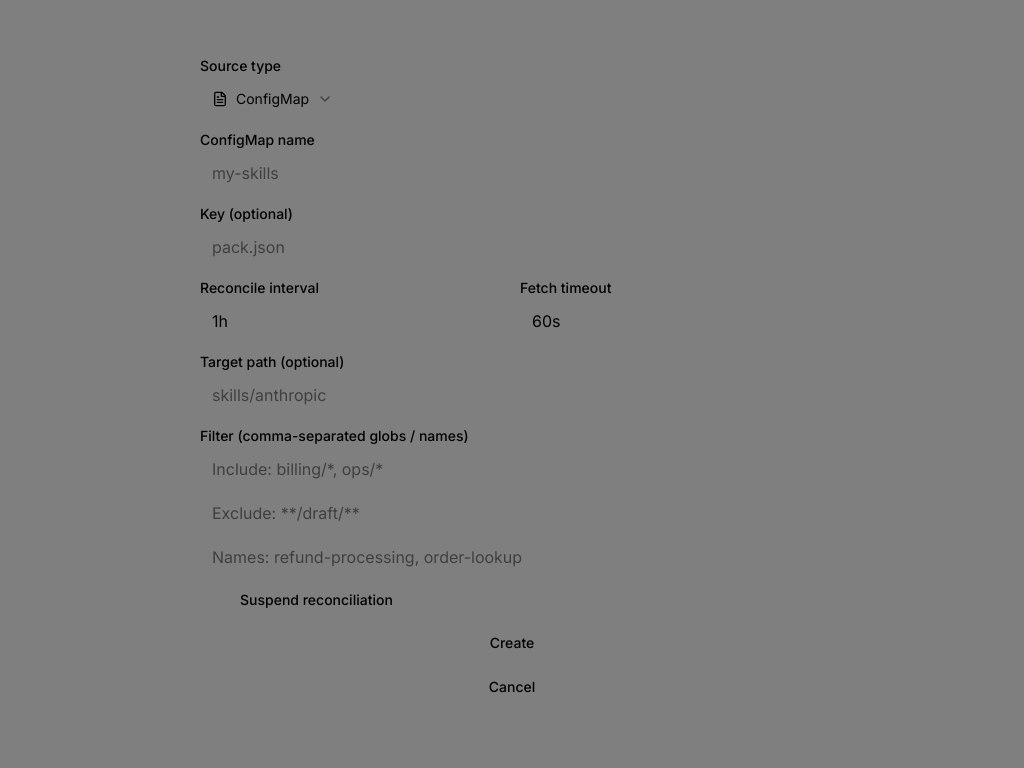
Test: SkillSourceDialog › rejects empty name on submit
(page scrolled)
Click the button "Create". click: (512, 644)
box: [200,626,824,662]
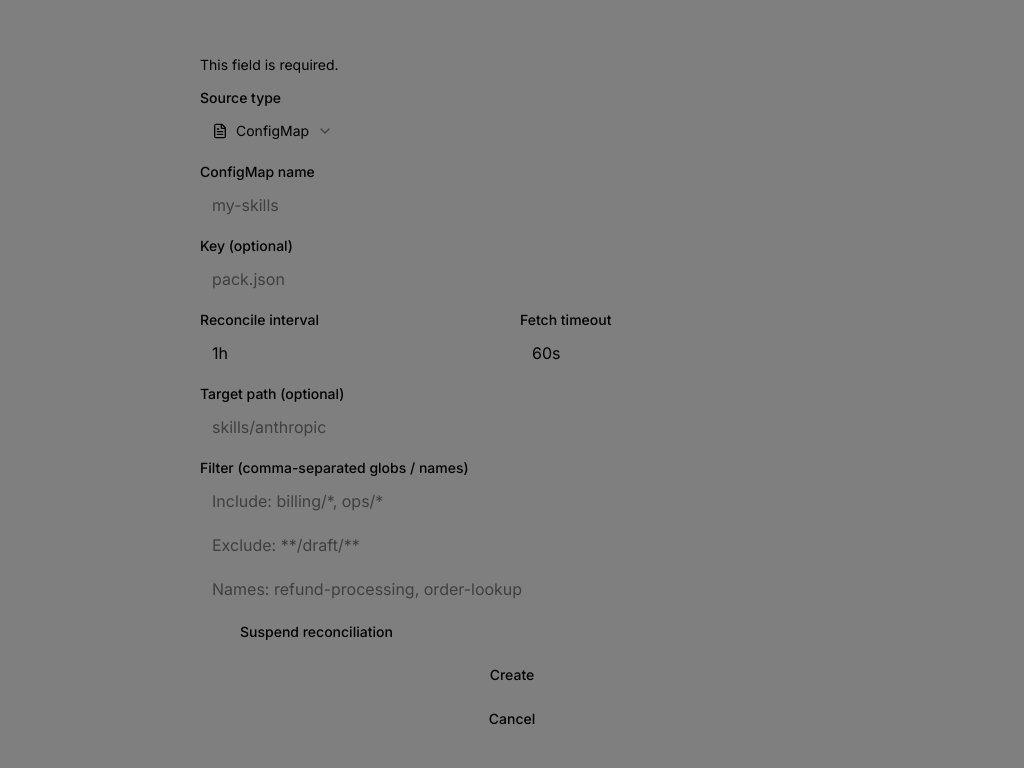
Now the text "This field is required." is shown, box [200,56,339,73]
